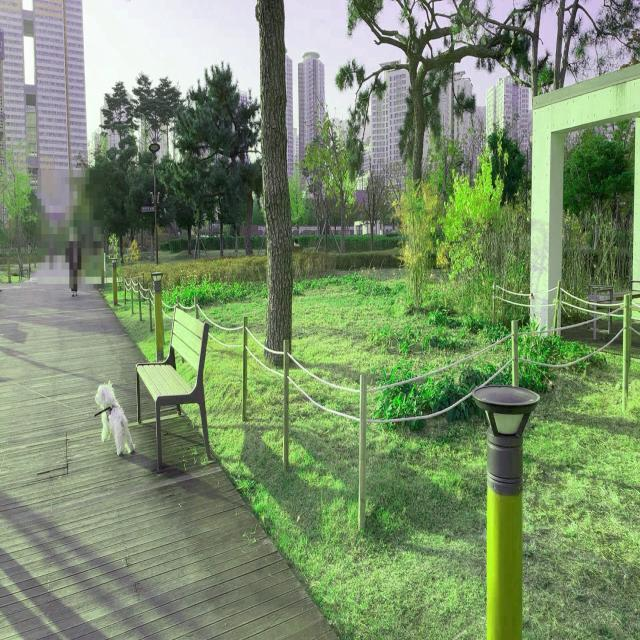Dog: (94, 378, 135, 458)
